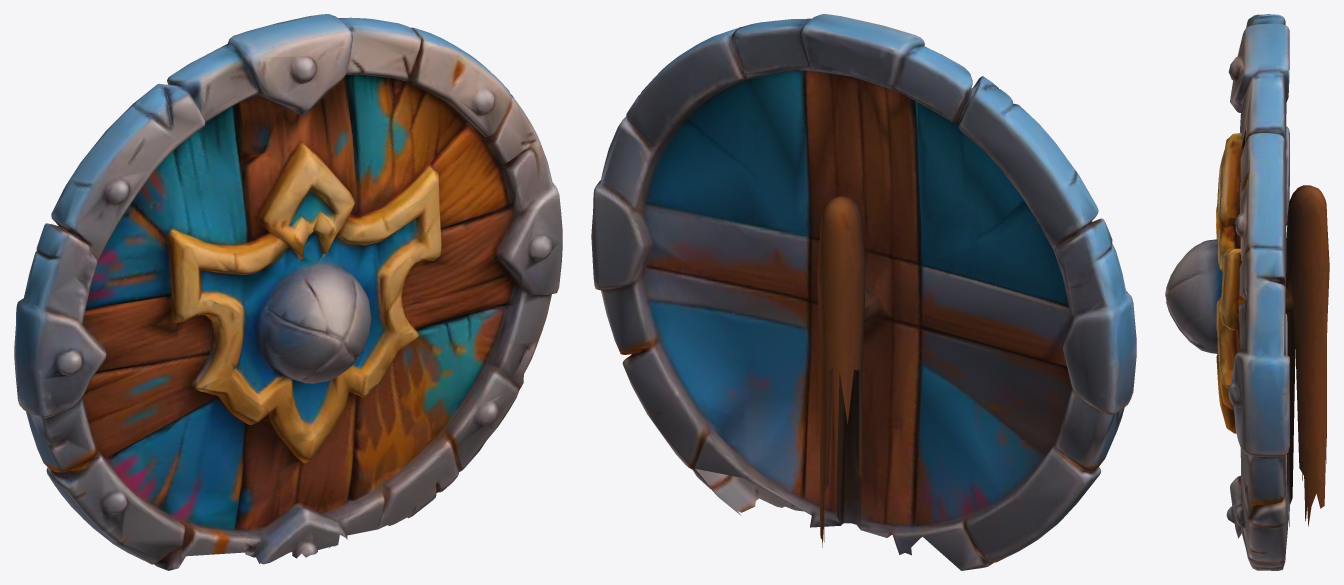
The picture shows the model from 3 angles, left to right: view 1: azimuth 30°, elevation 25°; view 2: azimuth 150°, elevation 25°; view 3: azimuth 270°, elevation 25°; orthographic projection. The views are drawn at different scales.
Parts seen in each view (by area): view 1: material; view 2: material; view 3: material.
Part boxes in pixels (x1,y1,x2,y2): material: (14,14,562,570); material: (591,14,1136,570); material: (1165,14,1329,570).
Size of the model in its own units: 0.9304 by 0.8626 by 0.2691.
Materials: 1 (1 with a texture image).
